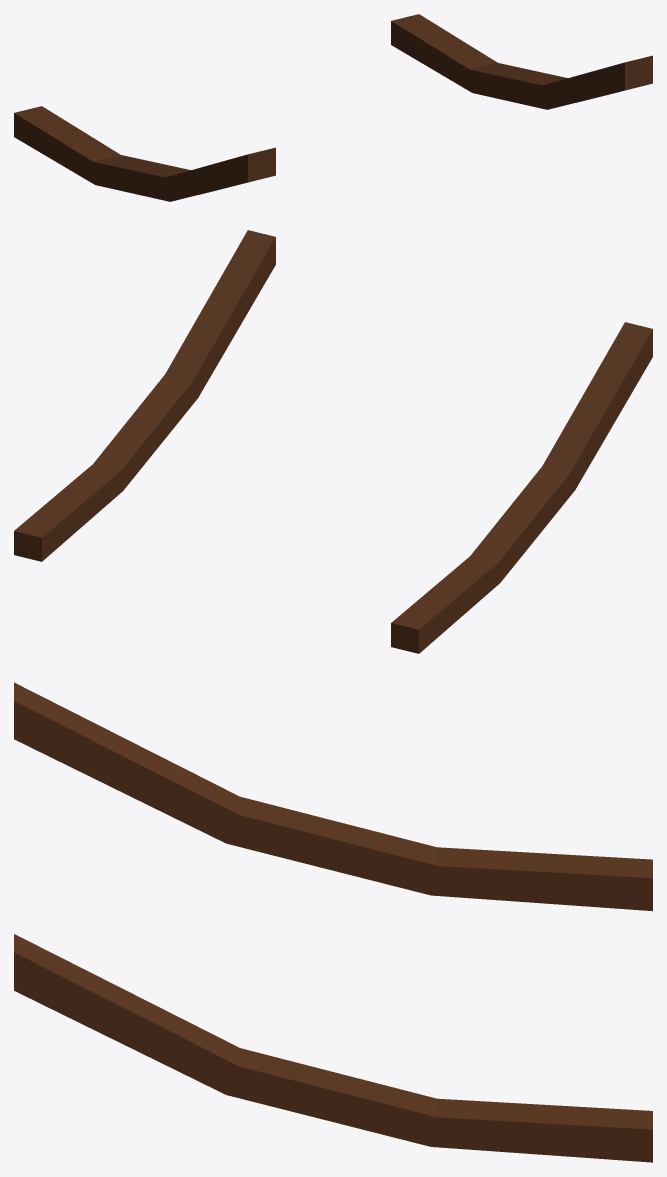
Rendered from Ramp__border.gltf.
The picture shows the model from 3 angles, top to bottom: view 1: azimuth 30°, elevation 25°; view 2: azimuth 150°, elevation 25°; view 3: azimuth 270°, elevation 25°; orthographic projection. The views are drawn at different scales.
Parts seen in each view (by area): view 1: Ramp__border_glb; view 2: Ramp__border_glb; view 3: Ramp__border_glb.
Boxes of the visible parts, x1=… form: Ramp__border_glb: x1=14, y1=14, x2=652, y2=201; Ramp__border_glb: x1=14, y1=230, x2=652, y2=653; Ramp__border_glb: x1=14, y1=682, x2=652, y2=1162.
Bounding box in the file's own units: 4.02 × 1.46 × 4.02.
1 material, 1 textured.
